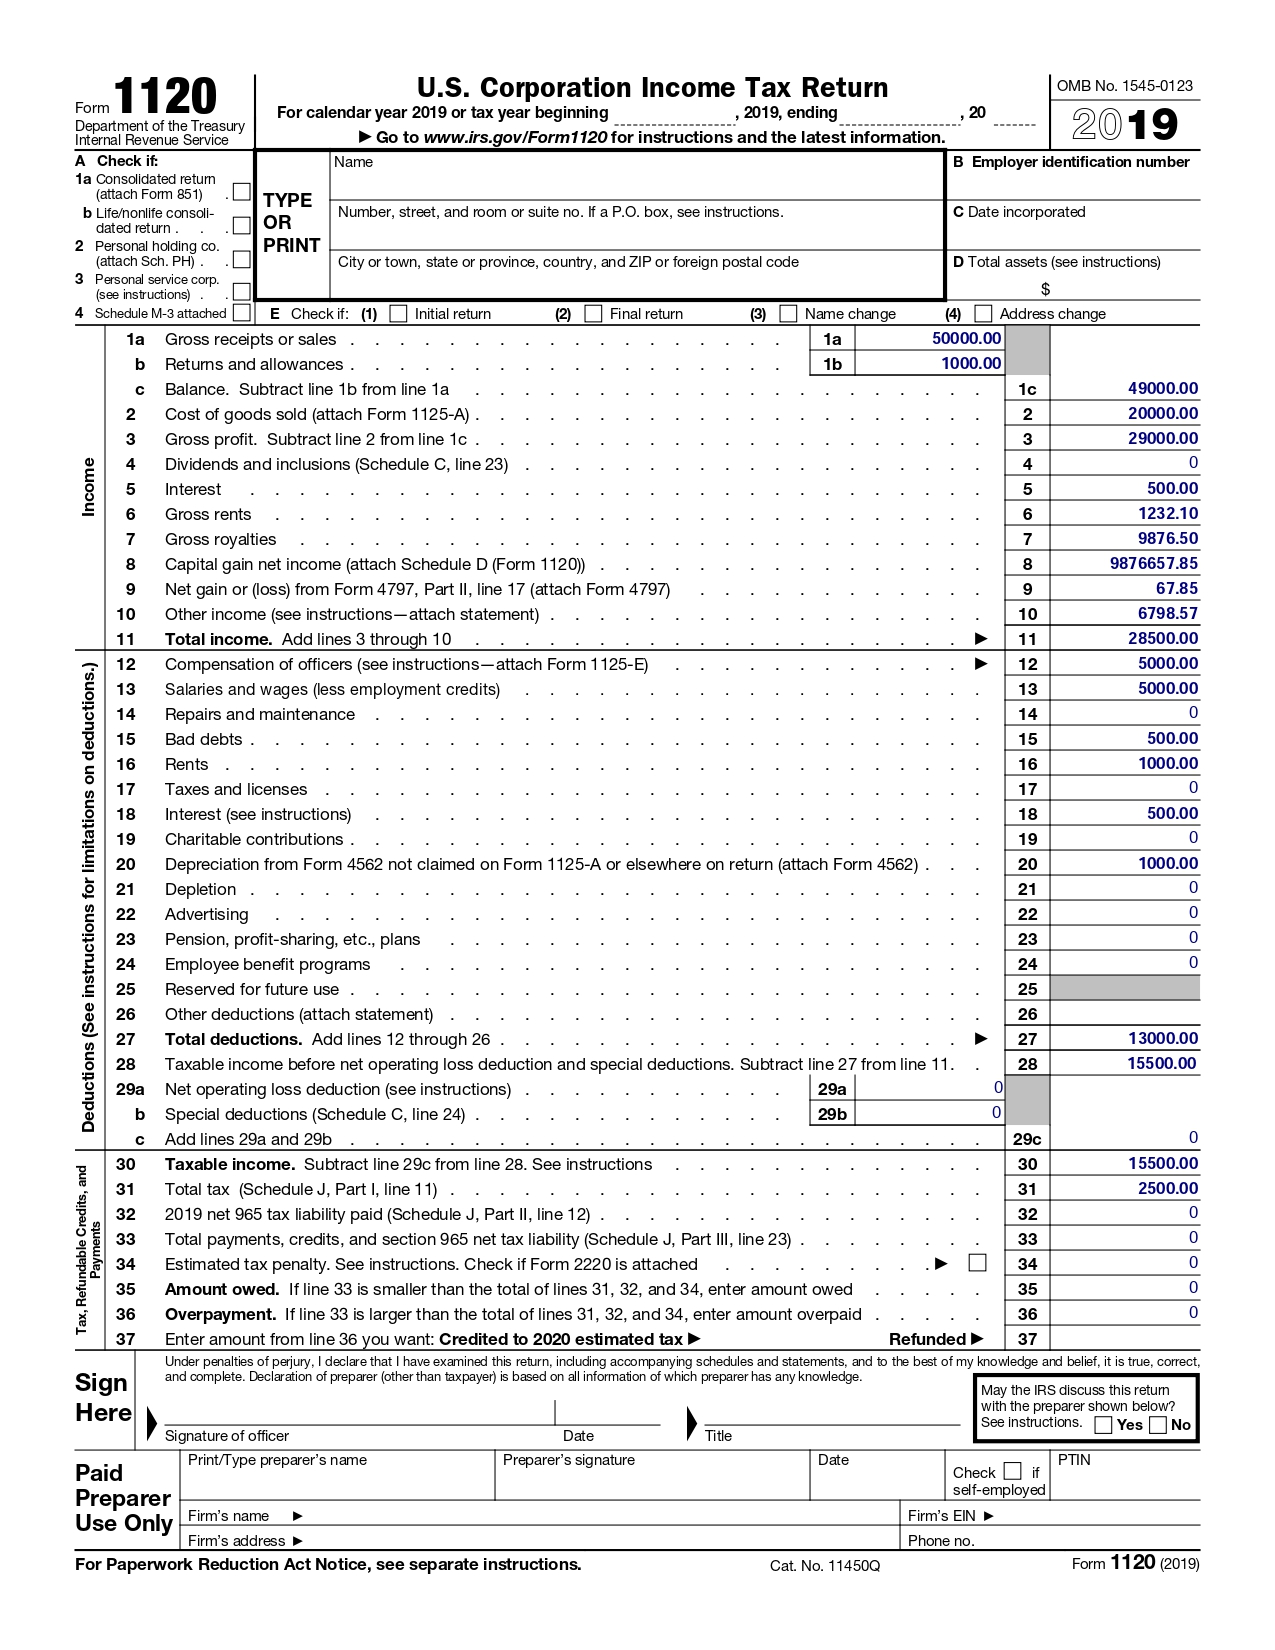form: (67, 50, 1221, 321), (67, 1355, 1220, 1580)
table: (62, 327, 1221, 1354)
